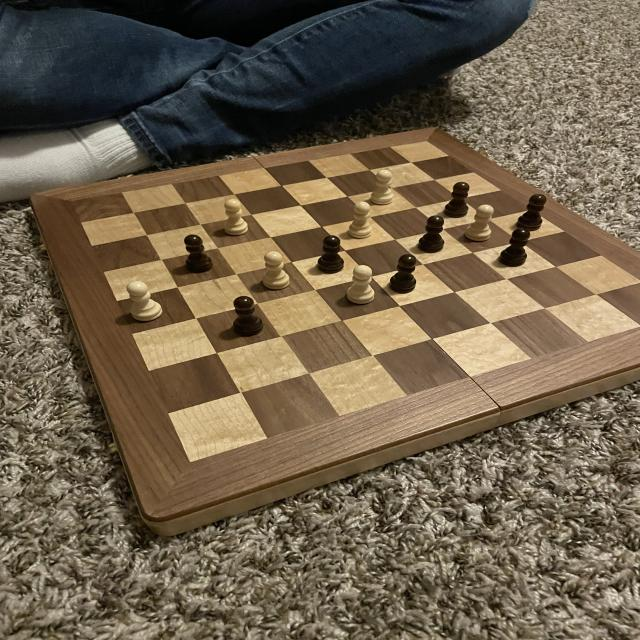black-knight: (178, 233, 218, 278), (229, 293, 266, 340), (384, 252, 420, 295), (515, 191, 550, 234), (497, 227, 532, 270), (314, 233, 346, 276), (416, 214, 447, 256), (442, 179, 473, 219)
white-knight: (121, 278, 167, 325), (258, 250, 296, 294), (343, 264, 377, 306), (464, 201, 496, 245), (368, 166, 400, 208), (220, 196, 250, 239), (344, 198, 374, 240)
